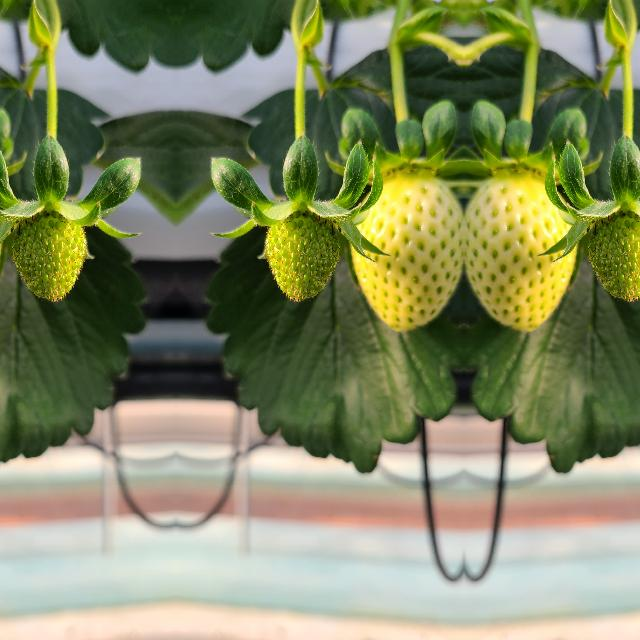Health_25: (264, 212, 338, 300), (12, 212, 86, 300), (588, 212, 640, 300)
